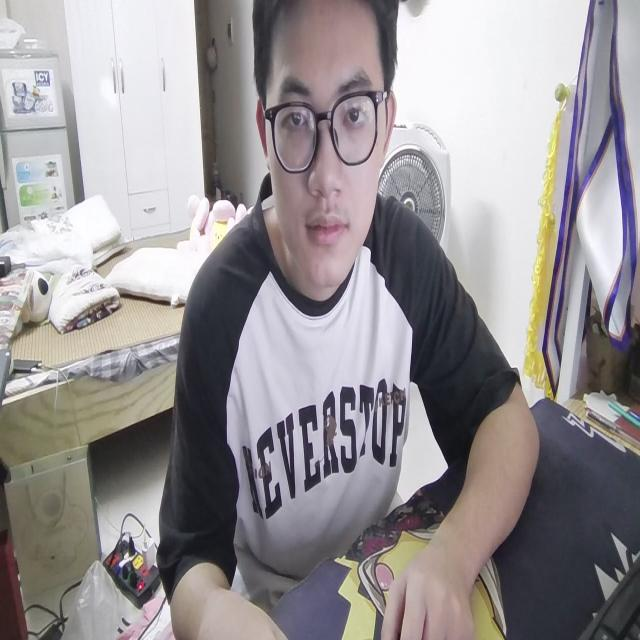student: (161, 0, 541, 640)
